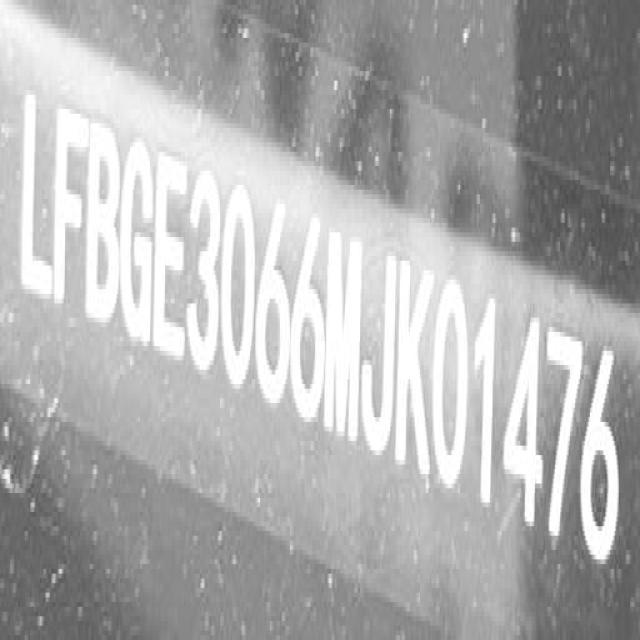0: (430, 274, 471, 505), (219, 177, 257, 399)
1: (471, 290, 499, 523)
3: (185, 164, 224, 383)
4: (503, 308, 546, 536)
6: (582, 342, 626, 574), (252, 196, 293, 412), (291, 217, 331, 432)
7: (546, 325, 584, 557)
B: (85, 122, 124, 334)
E: (153, 155, 189, 370)
F: (51, 105, 88, 319)
G: (119, 131, 156, 345)
J: (361, 243, 398, 466)
K: (394, 254, 434, 487)
L: (17, 91, 56, 306)
M: (323, 228, 366, 450)
